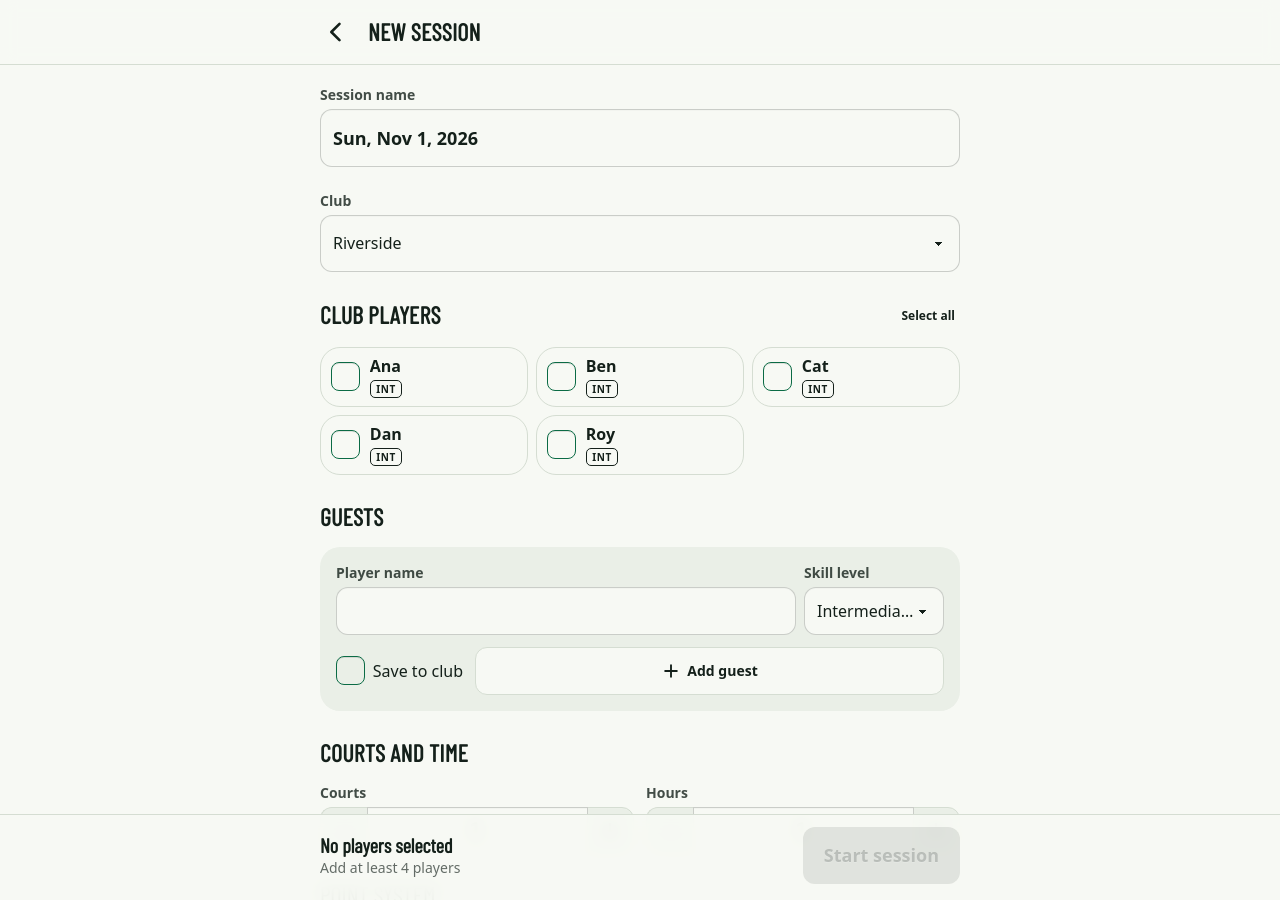
Test: New session with a Shared club: starting › needs a connection: the Start button is off and says why
Click the button "Select all" at (928, 315), box [888, 296, 968, 335]
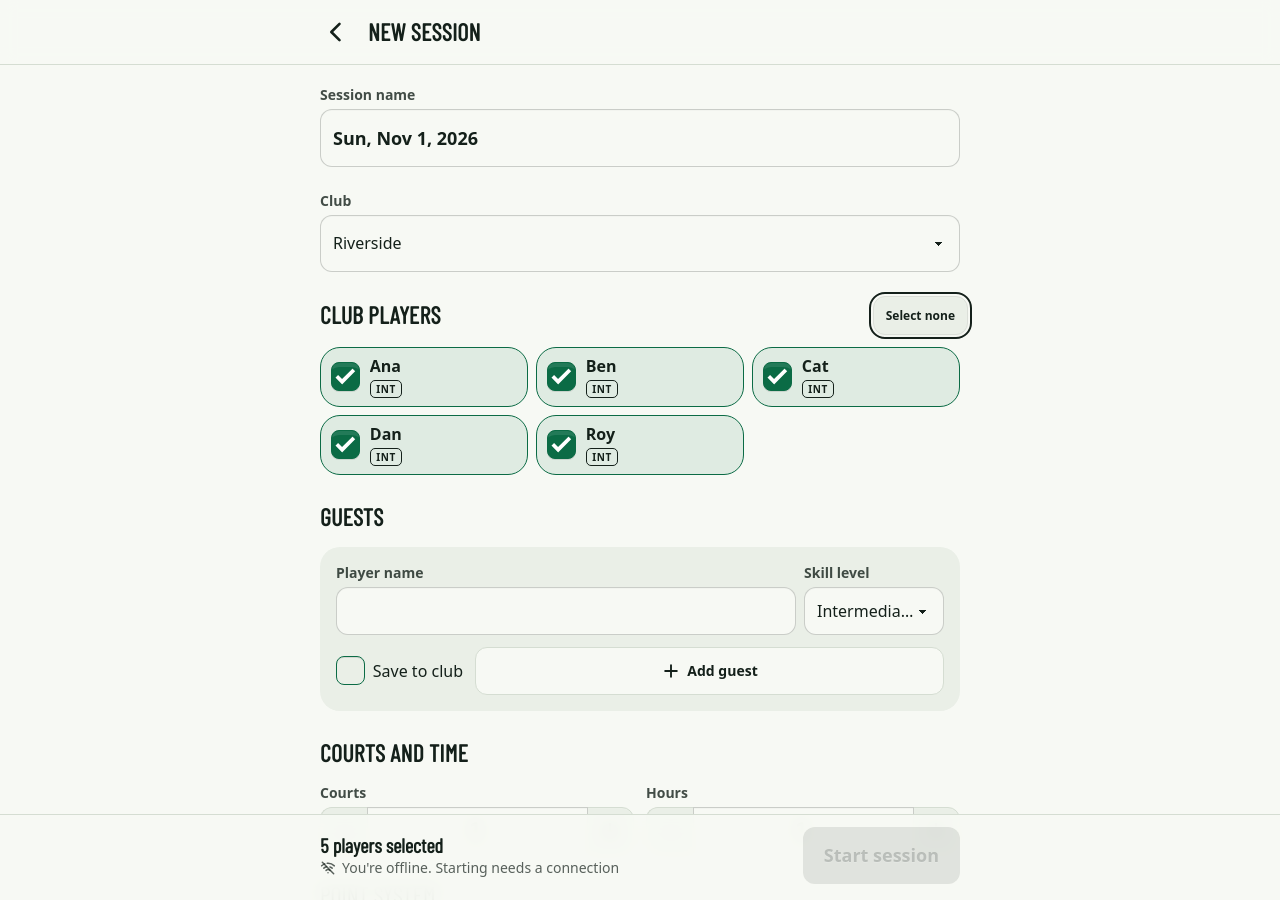
expect the button "Start session" is disabled: met, box [803, 826, 960, 884]
expect the text "You're offline. Starting needs a connection" is shown: met, box [342, 858, 619, 877]
